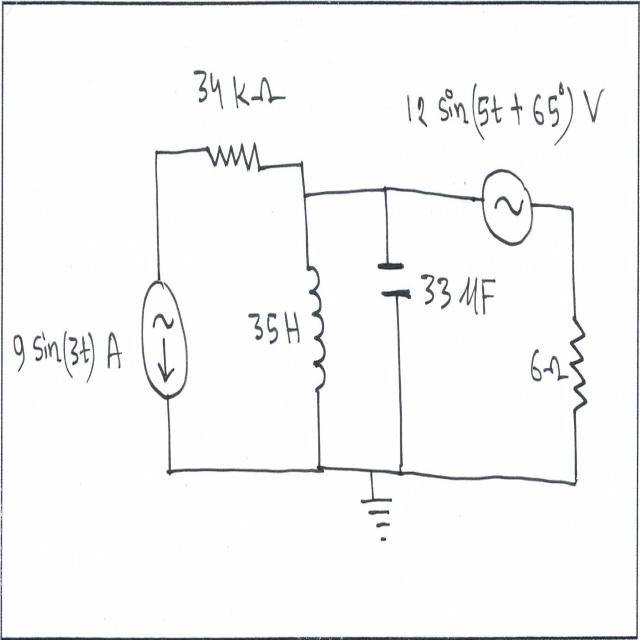ac_current: (480, 160, 539, 249)
capacitor: (374, 253, 414, 302)
current_source: (137, 278, 192, 401)
ground: (357, 491, 401, 560)
inductor: (304, 261, 332, 400)
resistor: (204, 131, 261, 186), (570, 307, 590, 429)
